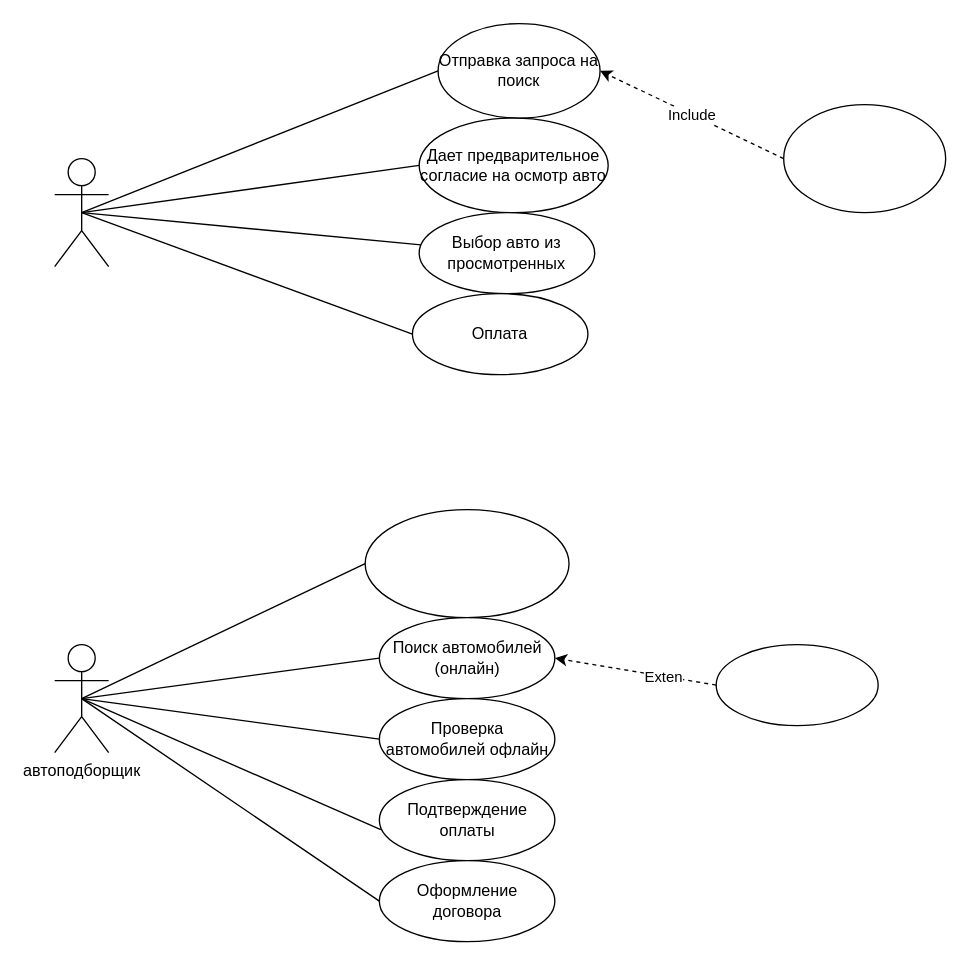
The diagram is 969 pixels wide and 965 high, and some of its shapes have lost their labels. Here are the shapes that lost their labels. From the top down, the centre of each, then its label:
(x=864, y=158): Предоплата
(x=81, y=212): клиент
(x=466, y=563): Принятие запроса
(x=796, y=684): Отправка
